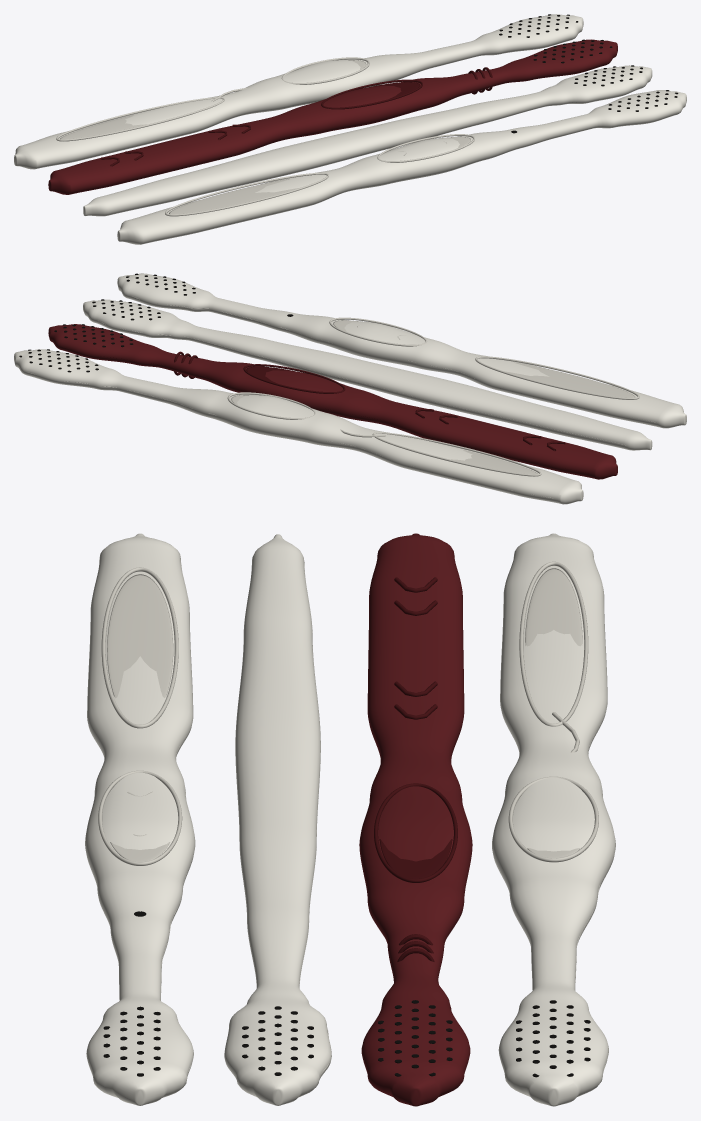
The model's file is product-20-toothbrush-collection.glb.
3 views of the same model, one above another, from view 1: azimuth 30°, elevation 25°; view 2: azimuth 150°, elevation 25°; view 3: azimuth 270°, elevation 25° (orthographic). The views are drawn at different scales.
Visible parts, largest first — view 1: Variant 2 red chevron toothbrush, Variant 1 white sculpted toothbrush, Variant 4 white vented toothbrush, Variant 3 white slim toothbrush, Variant 4 rear oval recess, Variant 4 rear oval rim, Variant 1 rear inset rim, Variant 1 rear inset, Variant 2 thumb recess rim, Variant 4 thumb pad rim, Variant 1 thumb oval rim; view 2: Variant 1 white sculpted toothbrush, Variant 2 red chevron toothbrush, Variant 4 white vented toothbrush, Variant 3 white slim toothbrush, Variant 4 rear oval recess, Variant 4 rear oval rim, Variant 1 rear inset rim, Variant 1 rear inset, Variant 2 thumb recess rim, Variant 4 thumb pad rim, Variant 1 thumb oval rim, Variant 3 subtle parting line; view 3: Variant 2 red chevron toothbrush, Variant 1 white sculpted toothbrush, Variant 3 white slim toothbrush, Variant 4 white vented toothbrush, Variant 4 rear oval recess, Variant 1 rear inset, Variant 4 rear oval rim, Variant 1 rear inset rim, Variant 2 thumb recess rim, Variant 2 thumb recess, Variant 4 thumb pad rim, Variant 1 thumb oval rim (+2 smaller).
Boxes of the visible parts, x1,y1,x2,y2 form: Variant 2 red chevron toothbrush: [48, 39, 617, 194]; Variant 1 white sculpted toothbrush: [14, 14, 583, 169]; Variant 4 white vented toothbrush: [117, 90, 686, 244]; Variant 3 white slim toothbrush: [83, 65, 652, 216]; Variant 4 rear oval recess: [169, 179, 298, 214]; Variant 4 rear oval rim: [165, 172, 328, 216]; Variant 1 rear inset rim: [56, 97, 224, 141]; Variant 1 rear inset: [60, 115, 146, 139]; Variant 2 thumb recess rim: [321, 79, 422, 109]; Variant 4 thumb pad rim: [377, 134, 474, 162]; Variant 1 thumb oval rim: [281, 57, 369, 84]; Variant 1 white sculpted toothbrush: [14, 349, 583, 504]; Variant 2 red chevron toothbrush: [48, 324, 617, 479]; Variant 4 white vented toothbrush: [117, 273, 686, 428]; Variant 3 white slim toothbrush: [83, 299, 652, 450]; Variant 4 rear oval recess: [504, 362, 635, 397]; Variant 4 rear oval rim: [475, 356, 639, 399]; Variant 1 rear inset rim: [372, 432, 541, 476]; Variant 1 rear inset: [451, 450, 537, 474]; Variant 2 thumb recess rim: [243, 364, 345, 393]; Variant 4 thumb pad rim: [329, 317, 426, 346]; Variant 1 thumb oval rim: [227, 392, 315, 419]; Variant 3 subtle parting line: [97, 320, 626, 445]; Variant 2 red chevron toothbrush: [359, 533, 472, 1106]; Variant 1 white sculpted toothbrush: [492, 533, 615, 1106]; Variant 3 white slim toothbrush: [224, 534, 331, 1105]; Variant 4 white vented toothbrush: [85, 533, 195, 1105]; Variant 4 rear oval recess: [107, 574, 173, 698]; Variant 1 rear inset: [525, 568, 582, 646]; Variant 4 rear oval rim: [101, 567, 178, 728]; Variant 1 rear inset rim: [519, 561, 588, 726]; Variant 2 thumb recess rim: [374, 783, 457, 882]; Variant 2 thumb recess: [379, 839, 452, 878]; Variant 4 thumb pad rim: [98, 770, 182, 865]; Variant 1 thumb oval rim: [508, 776, 598, 862].
Size of the model in its own units: 0.19 by 0.00873 by 0.077.
